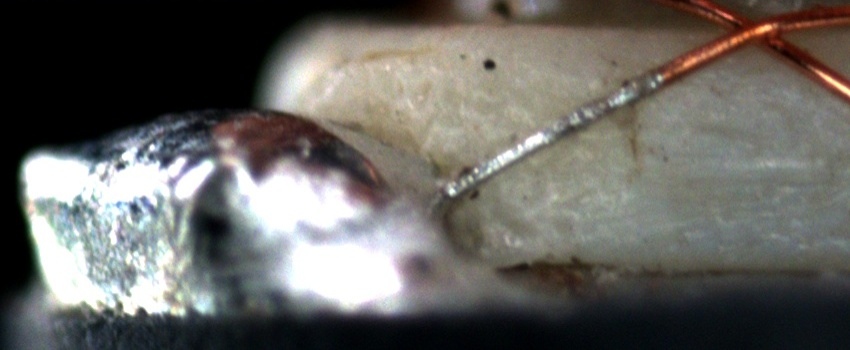CL: (710, 6, 801, 58)
DL: (630, 132, 850, 186)
TS: (442, 66, 664, 197)
